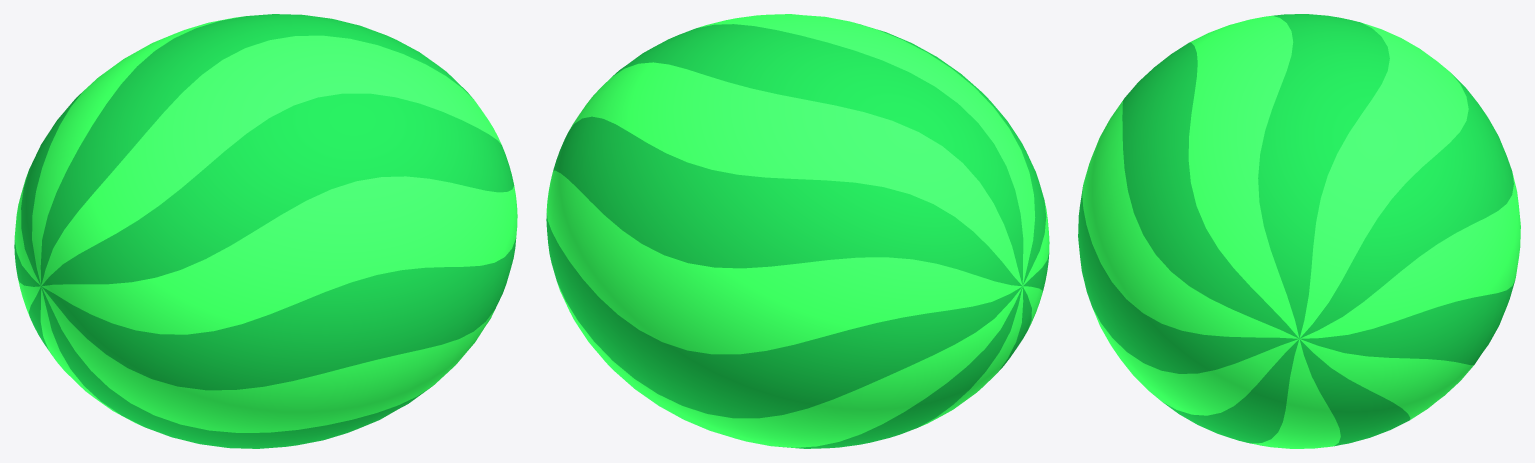
3 views of the same model, side by side, from view 1: azimuth 30°, elevation 25°; view 2: azimuth 150°, elevation 25°; view 3: azimuth 270°, elevation 25° (orthographic). The views are drawn at different scales.
Visible parts, largest first — view 1: Watermelon-whole; view 2: Watermelon-whole; view 3: Watermelon-whole.
Boxes of the visible parts, box(x1,y1,x2,y2) form: Watermelon-whole: box(14, 14, 517, 448); Watermelon-whole: box(546, 14, 1049, 448); Watermelon-whole: box(1078, 14, 1520, 448).
Bounding box in the file's own units: 0.0576 × 0.0474 × 0.0502.
